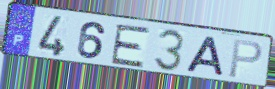3: (152, 28, 186, 74)
4: (36, 15, 67, 58)
6: (76, 21, 107, 61)
A: (184, 35, 226, 78)
E: (109, 23, 152, 69)
P: (227, 38, 264, 80)
